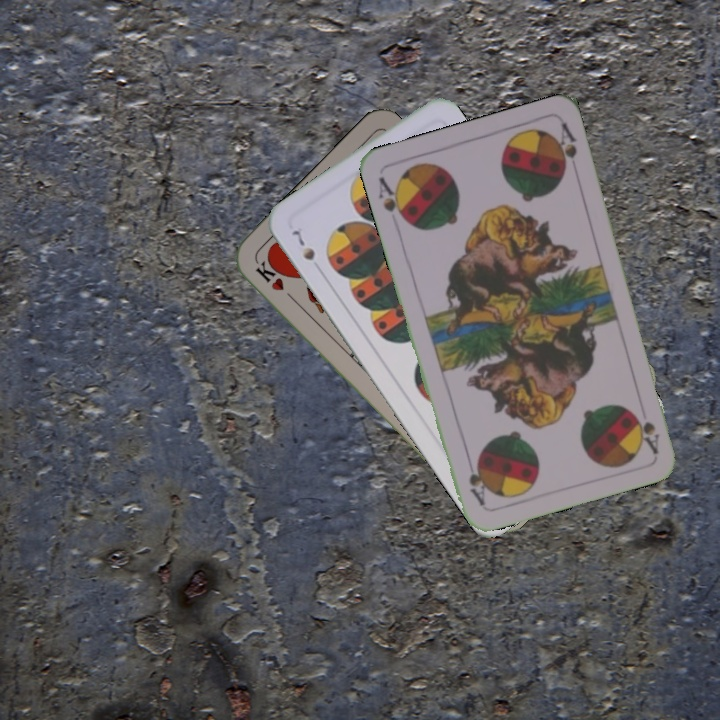HK: (251, 257, 299, 306)
S7: (287, 222, 318, 263)
SA: (374, 173, 410, 226), (633, 411, 662, 456)
